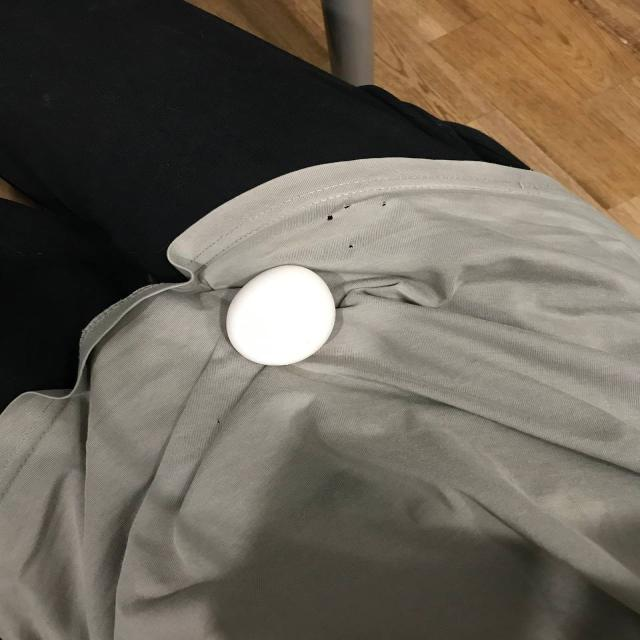egg: (225, 262, 338, 366)
